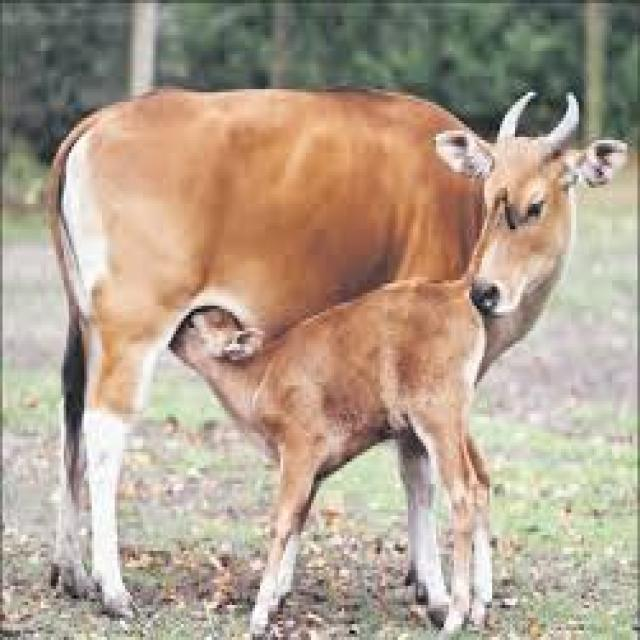Ox: (39, 66, 635, 618), (168, 281, 511, 634)
